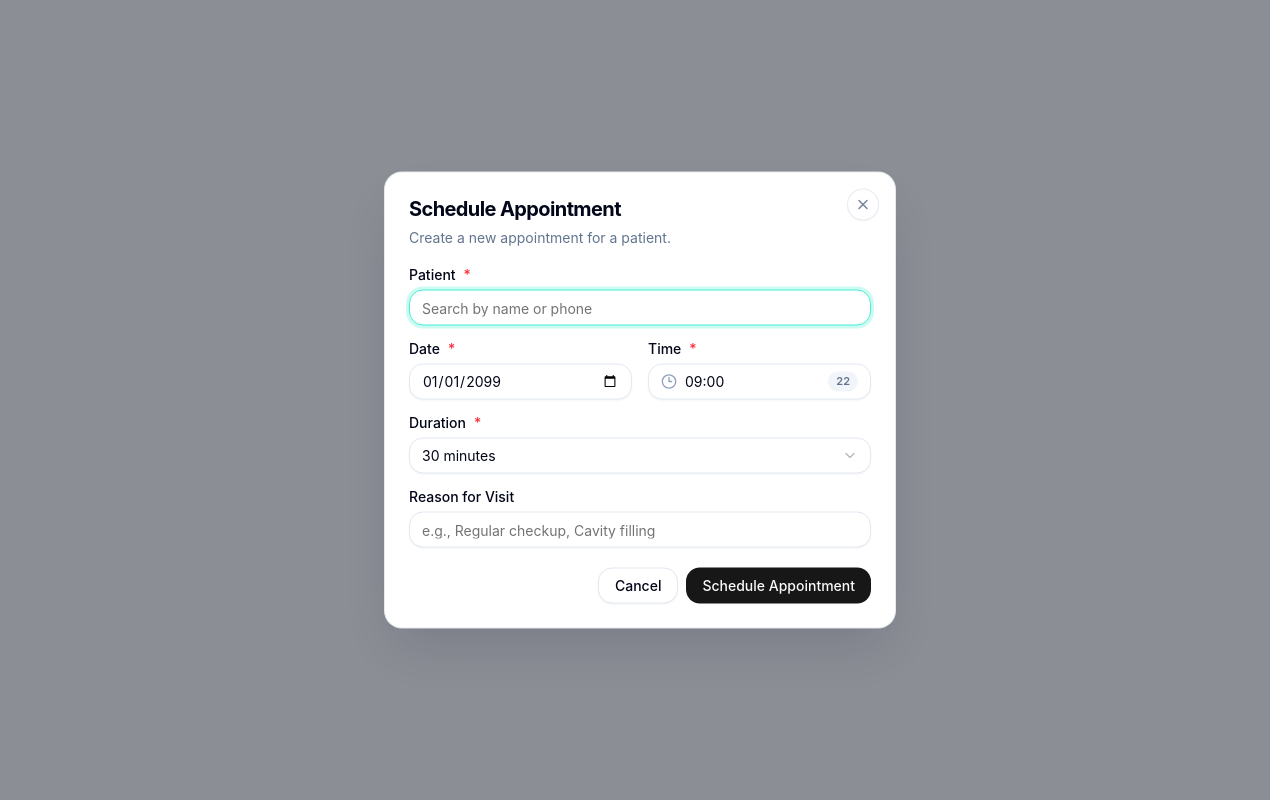
Test: AddAppointmentDialog › hides patient search while editing a guest visitor and restores it from the guest card
Type "Guest Visitor" into the dropdown with placeholder "Search by name or phone" at (640, 308), box [409,290,871,326]
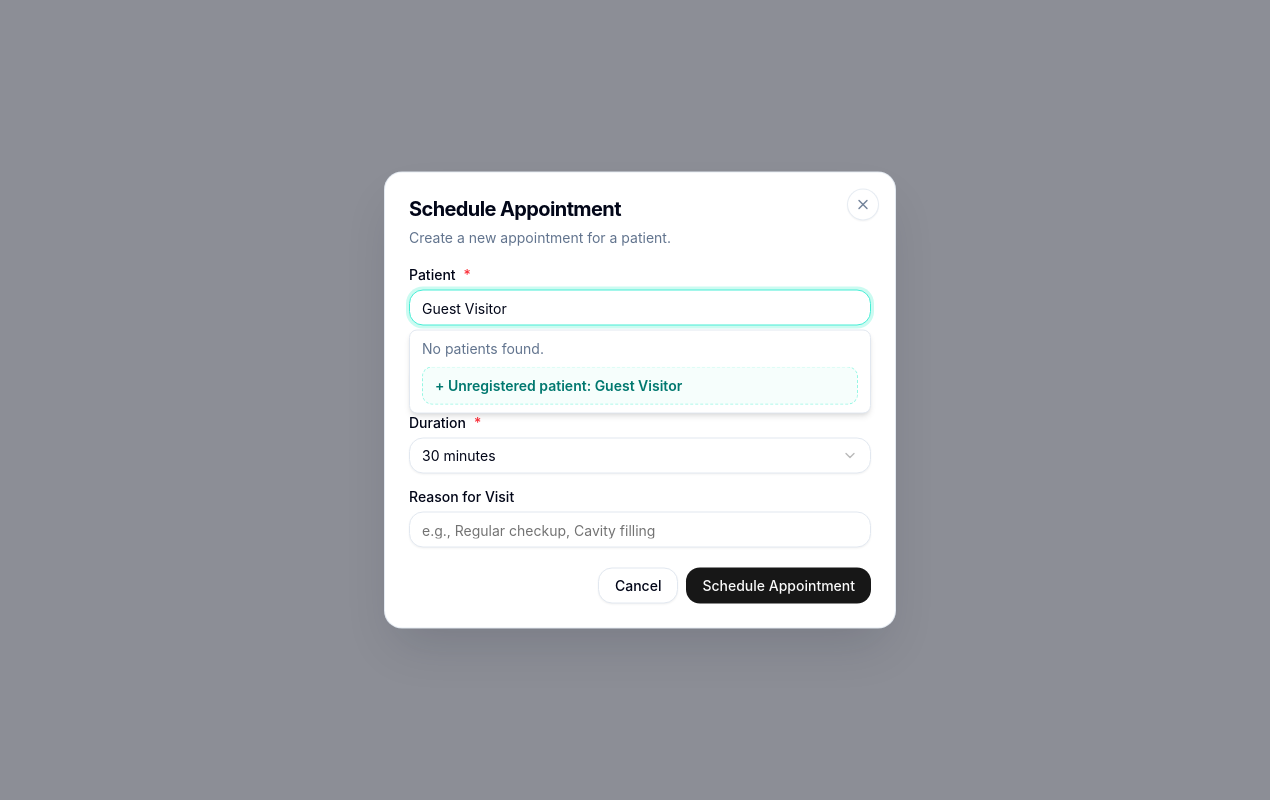
Click the button "Schedule Appointment" at (779, 586), box [686,568,871,604]
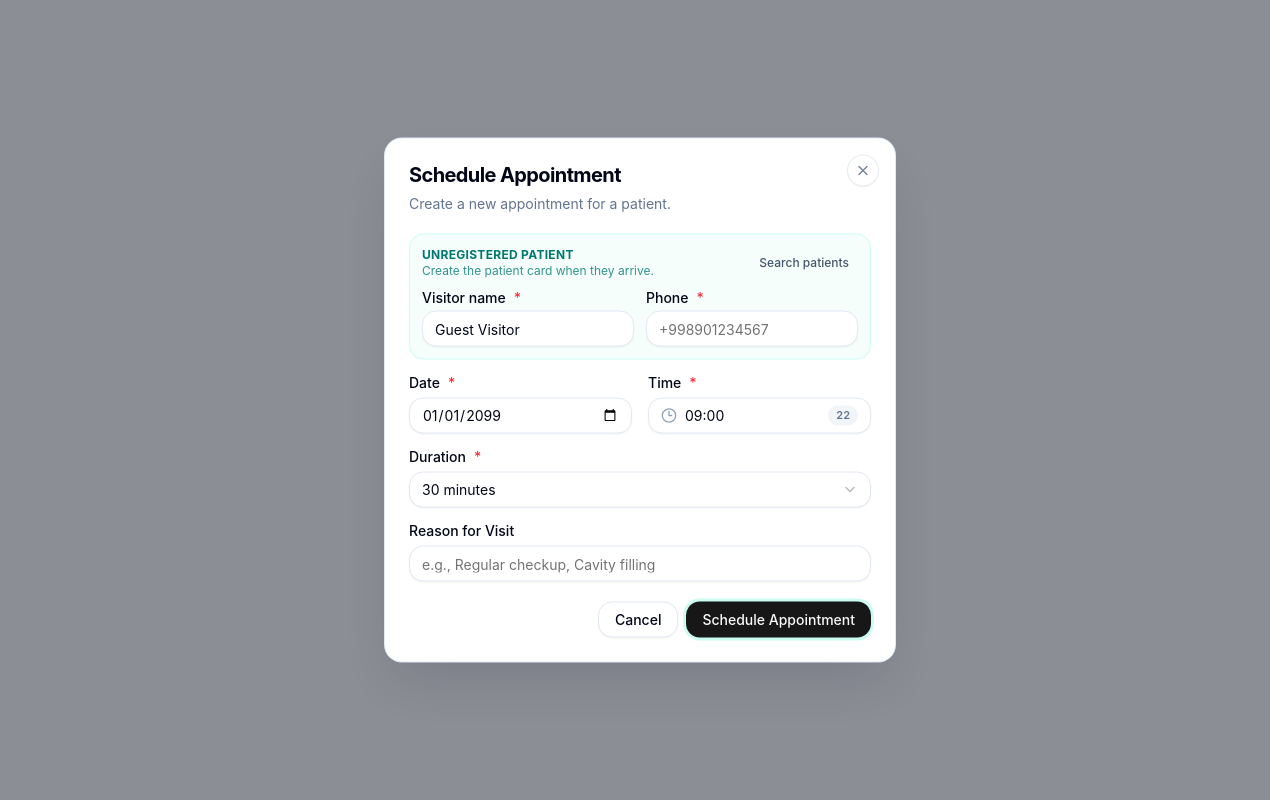
Expected: the field with placeholder "Search by name or phone" is not shown
Expected: the text "Unregistered patient" is shown, [422,246,574,262]
Click the button "Search patients" at (804, 262), box [750,246,858,278]
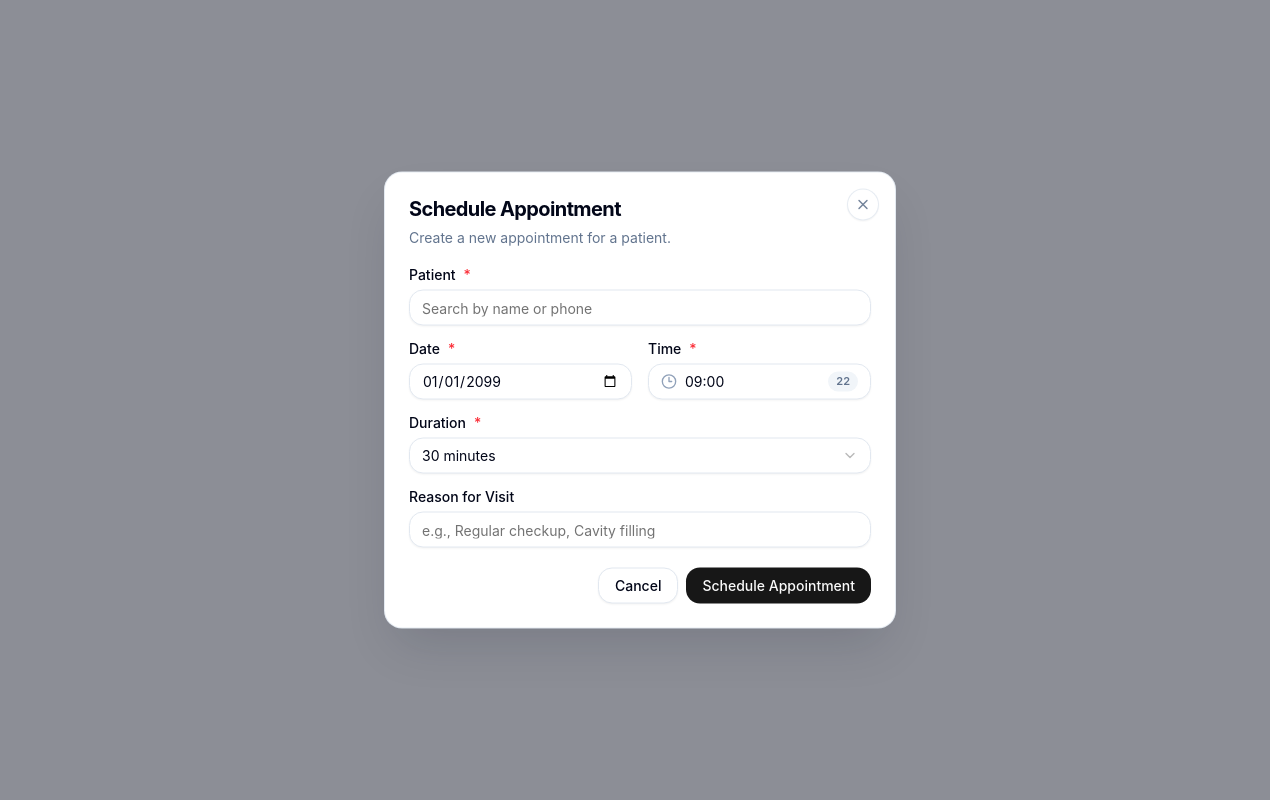
Expected: the dropdown with placeholder "Search by name or phone" is shown, [409,290,871,326]
Expected: the text "Unregistered patient" is gone
